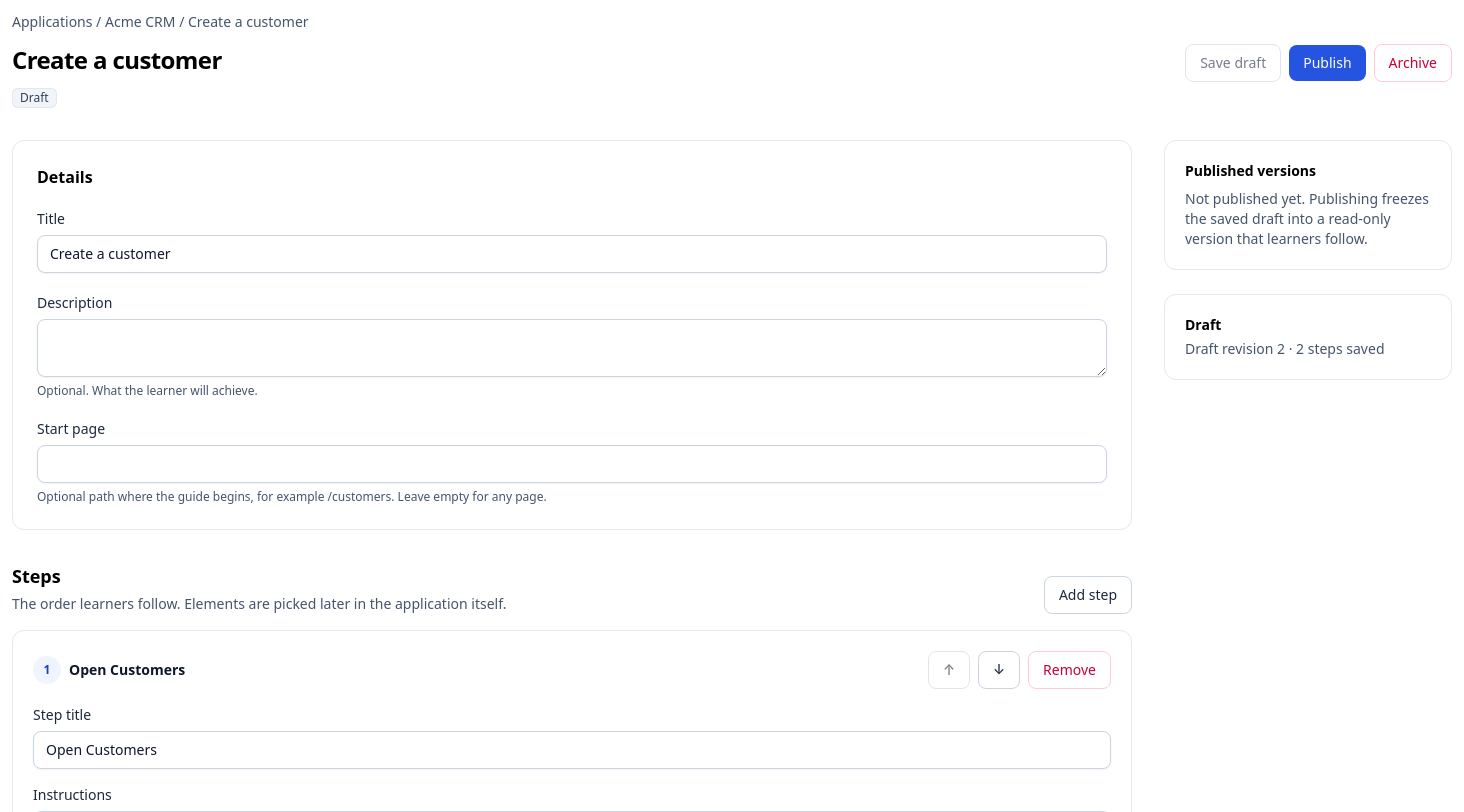
Test: GuideEditorPage › points at invalid steps instead of saving
Click the button "Add step" at (1088, 595), box x1=1044 y1=576 x2=1132 y2=614
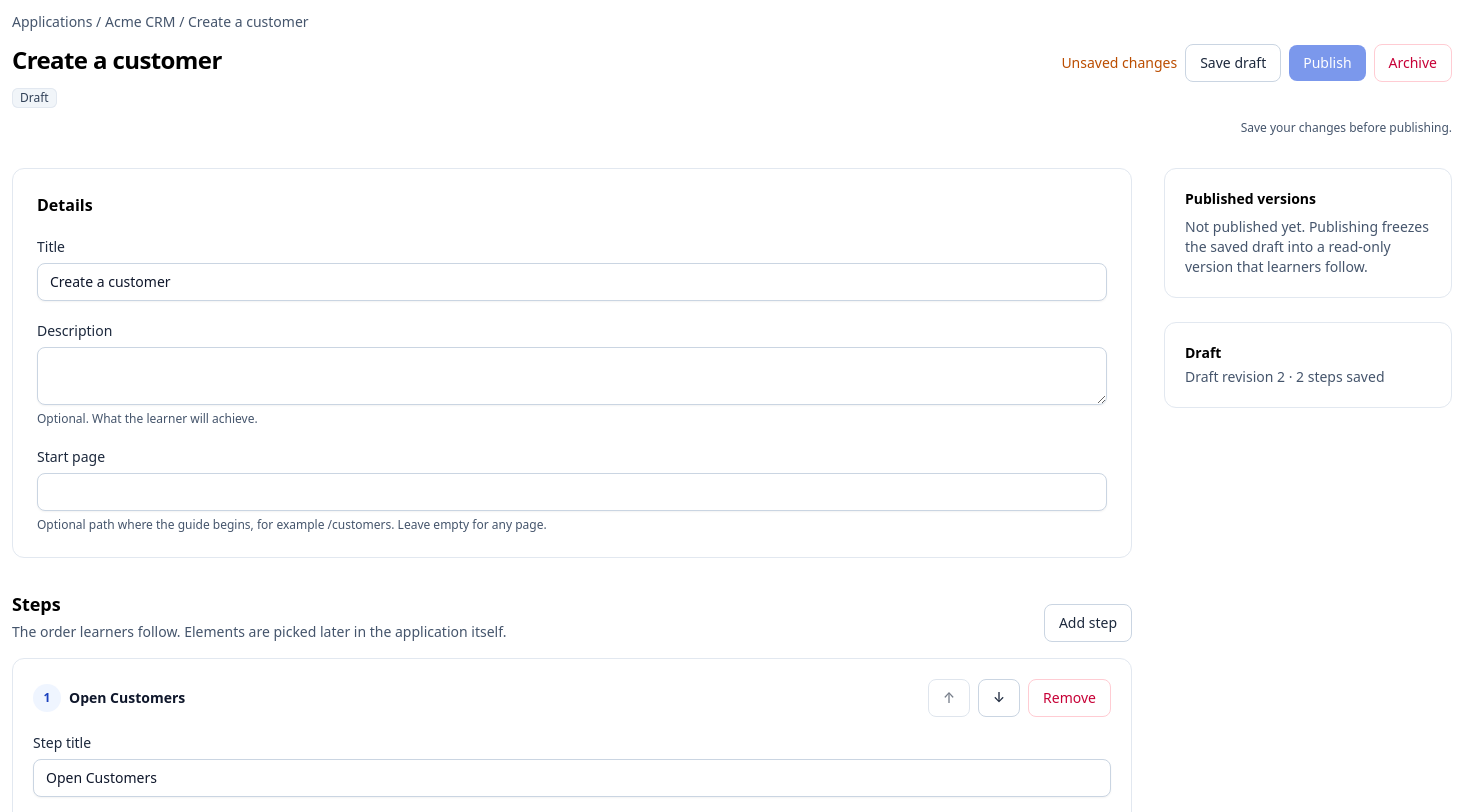
Click the button "Save draft" at (1233, 63), box x1=1185 y1=44 x2=1281 y2=82
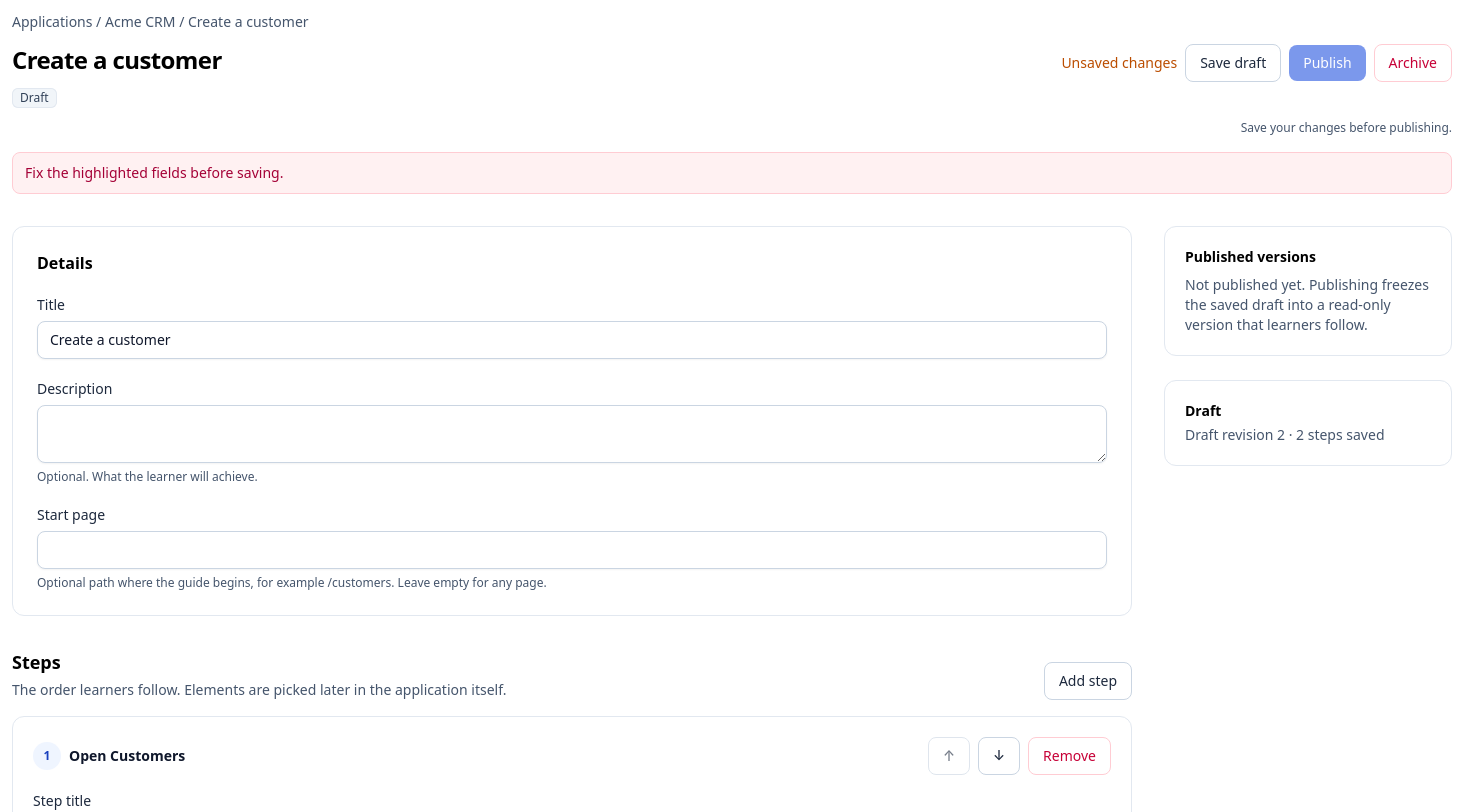
expect the message "Fix the highlighted fields before saving." is shown: met, box x1=12 y1=152 x2=1452 y2=194
